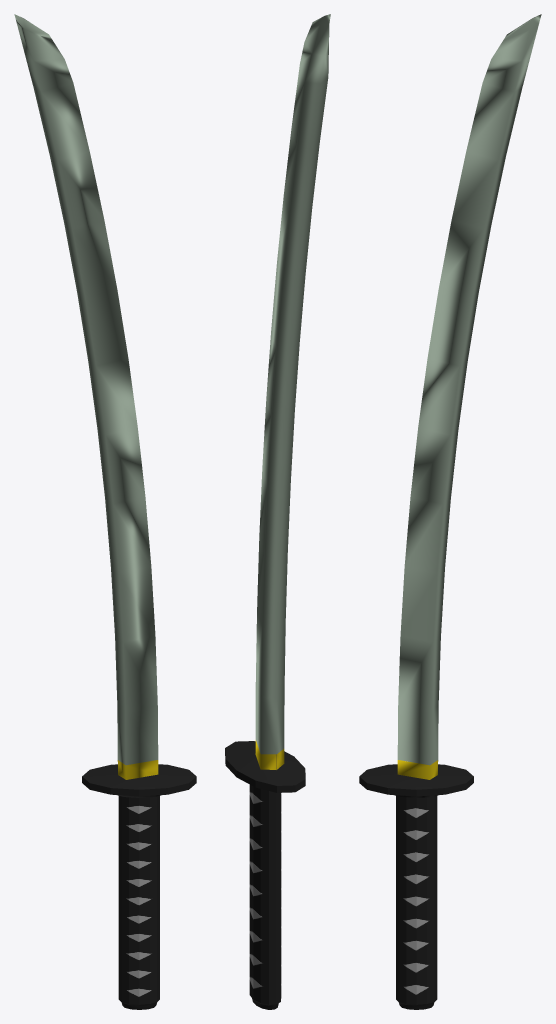
File: adamantite_katana.glb
3 renders of one model, left to right at view 1: azimuth 90°, elevation 25°; view 2: azimuth 210°, elevation 25°; view 3: azimuth 270°, elevation 25°, orthographic. The views are drawn at different scales.
Visible parts, largest first — view 1: Steel Katana; view 2: Steel Katana; view 3: Steel Katana.
Part boxes in pixels (<box>): Steel Katana: <box>14,14,196,1009</box>; Steel Katana: <box>225,14,330,1009</box>; Steel Katana: <box>359,14,541,1009</box>.
Bounding box in the file's own units: 0.0388 × 0.669 × 0.1115.
Materials: 2 (1 with a texture image).
